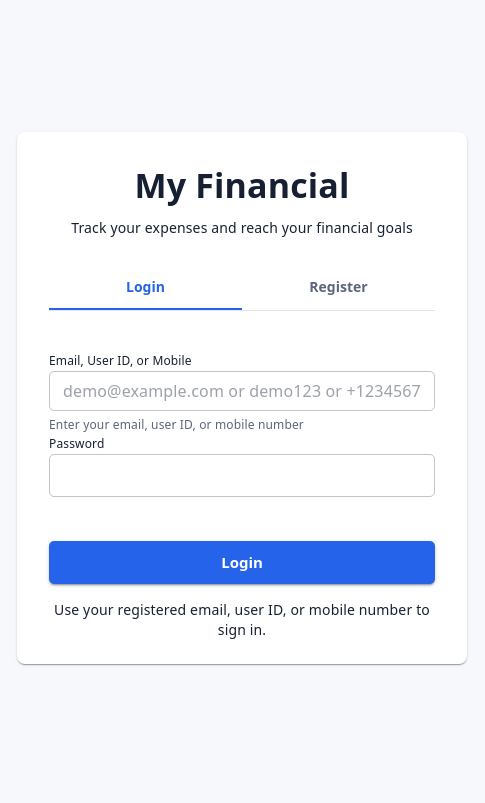
Login › switches to registration and validates required registration fields
The width and height of the screenshot is (485, 803).
Step 1. Click the tab "Register" → point(338, 286), box [242,262,435,310]
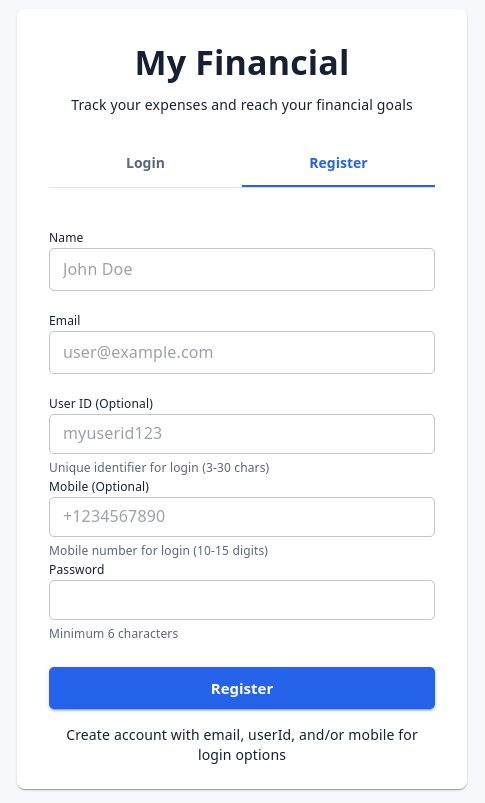
Step 2. Click the button "Register" → point(242, 688), box [49,667,435,709]
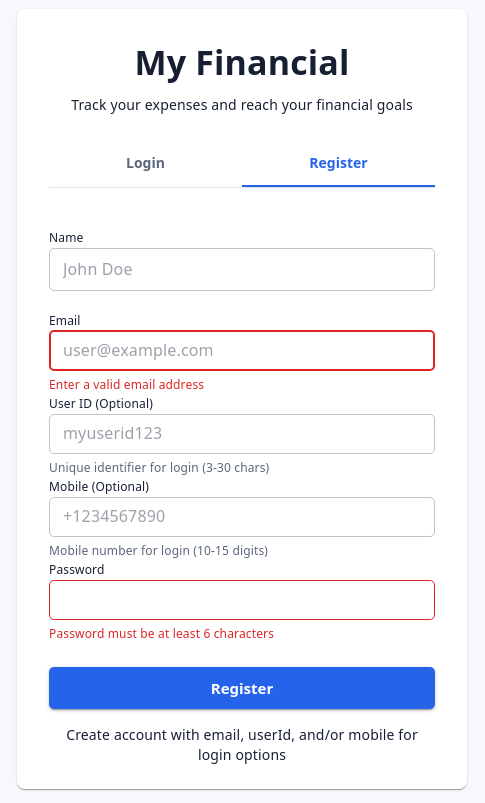
Expected: the panel is shown, [49,204,435,765]
Expected: the text "Enter a valid email address" is shown, [49,376,204,393]
Expected: the text "Password must be at least 6 characters" is shown, [49,625,274,642]
